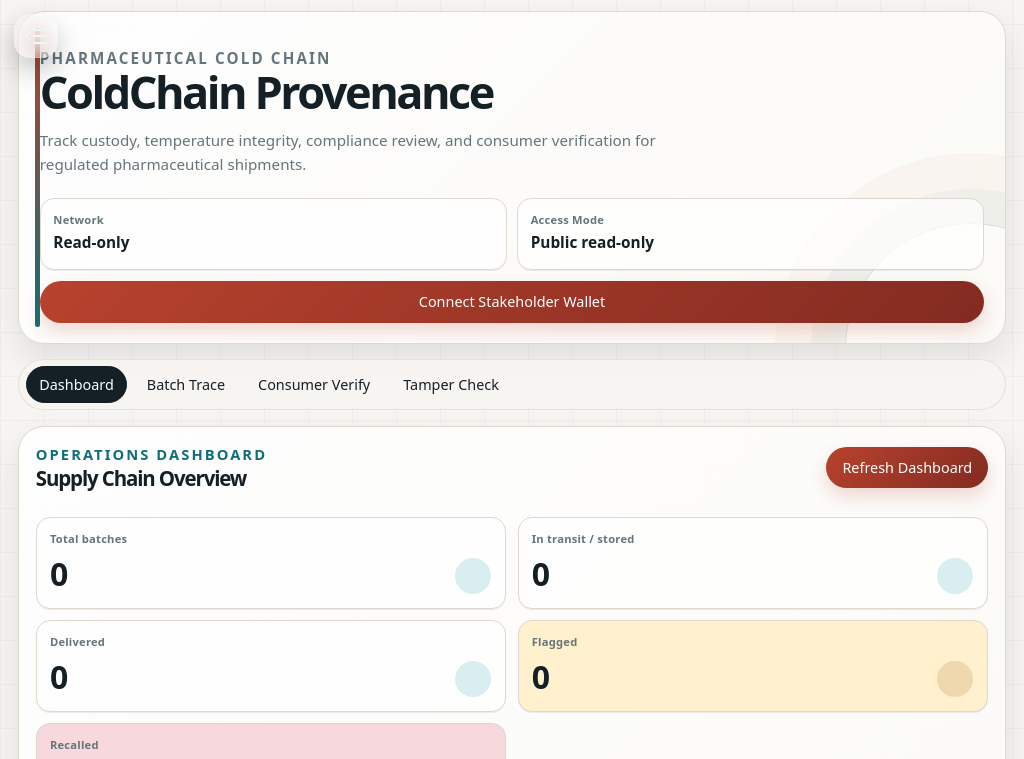
Test: ColdChain Provenance app › shows the tamper-evidence verification panel
The image size is (1024, 759).
(page scrolled)
Click the link "Tamper Check" at x=451, y=384, box [403, 375, 499, 394]
(page scrolled)
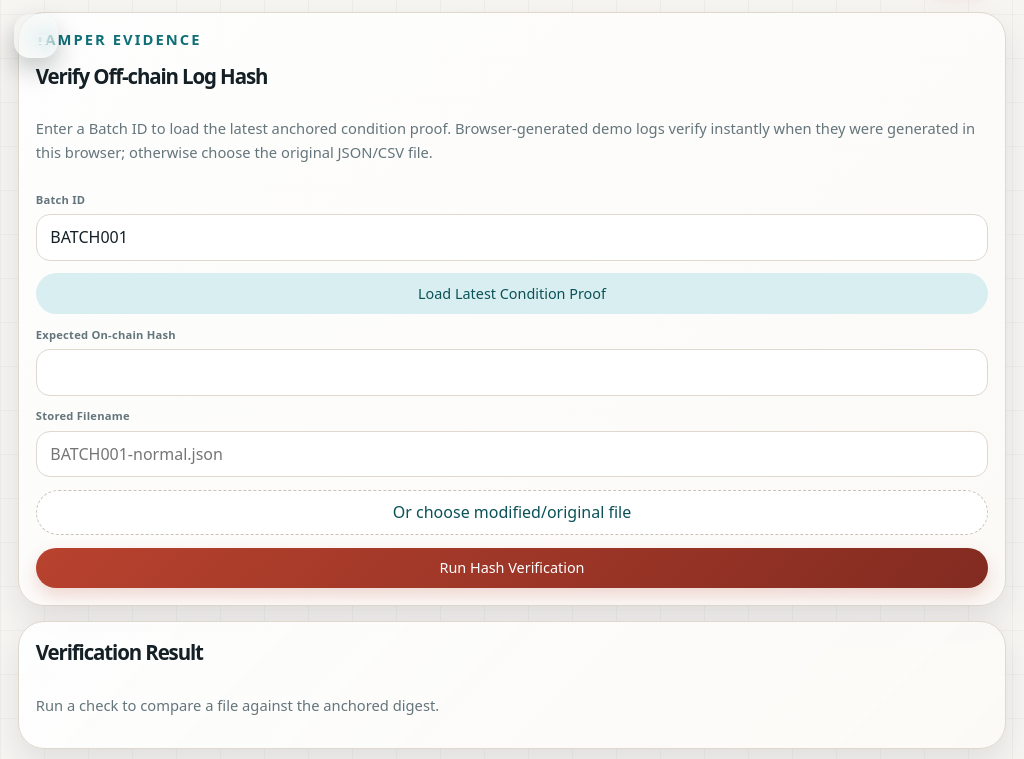
Check: the heading "Verify Off-chain Log Hash" is shown, box [36, 62, 267, 90]
Check: the button "Run Hash Verification" is shown, box [36, 548, 988, 588]
Check: the text "Run a check to compare a file against the anchored digest." is shown, box [36, 695, 439, 715]
